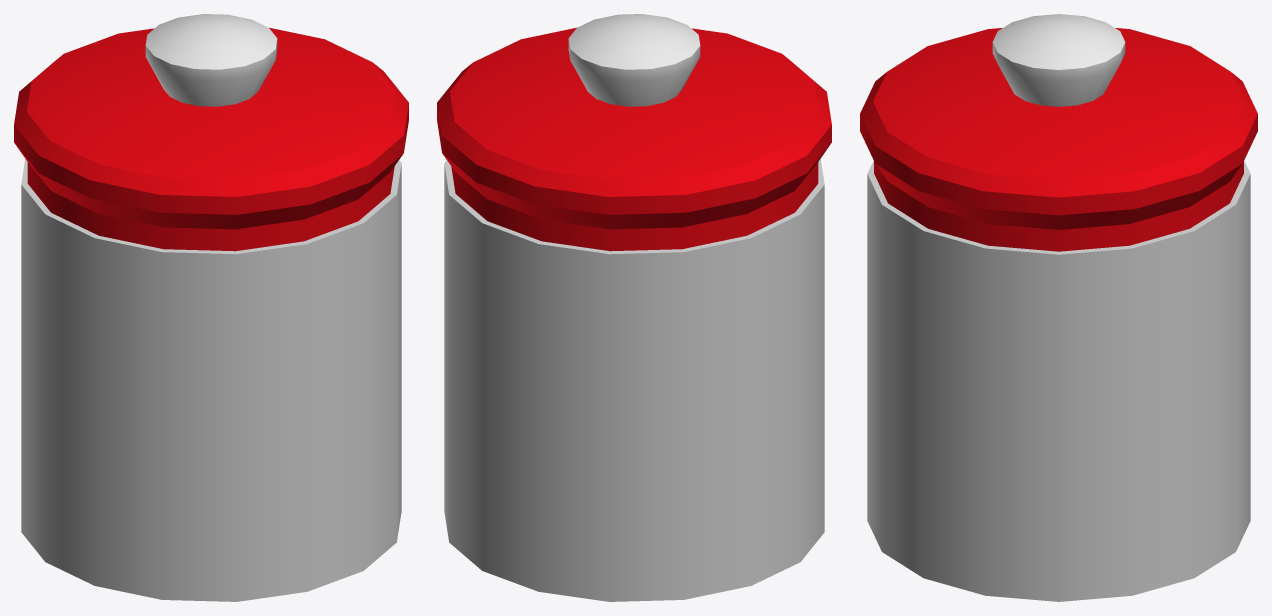
The model's file is treats.fbx.
3 renders of one model, left to right at view 1: azimuth 30°, elevation 25°; view 2: azimuth 150°, elevation 25°; view 3: azimuth 270°, elevation 25°, orthographic.
Visible parts, largest first — view 1: Cylinder, Cylinder.002, Cylinder.001; view 2: Cylinder, Cylinder.002, Cylinder.001; view 3: Cylinder, Cylinder.002, Cylinder.001.
Part boxes in pixels (<box>): Cylinder: <box>21,159,401,601</box>; Cylinder.002: <box>14,27,408,251</box>; Cylinder.001: <box>145,14,277,106</box>; Cylinder: <box>444,159,824,601</box>; Cylinder.002: <box>437,27,831,251</box>; Cylinder.001: <box>568,14,700,106</box>; Cylinder: <box>867,160,1250,601</box>; Cylinder.002: <box>860,28,1257,251</box>; Cylinder.001: <box>992,14,1125,106</box>.
Bounding box in the file's own units: 208 × 285 × 208.
